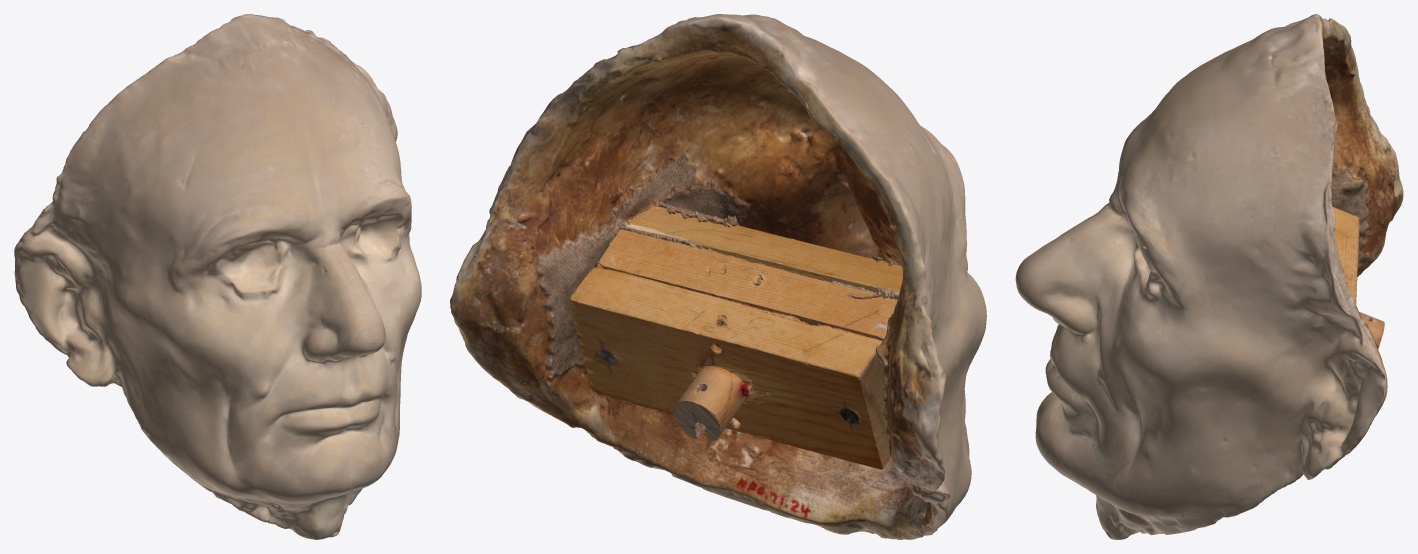
The model's file is npg_71_24_mesh-100k-web.gltf.
3 renders of one model, left to right at view 1: azimuth 30°, elevation 25°; view 2: azimuth 150°, elevation 25°; view 3: azimuth 270°, elevation 25°, orthographic. The views are drawn at different scales.
Bounding box in the file's own units: 203 × 235 × 161.
1 material, 1 textured.
